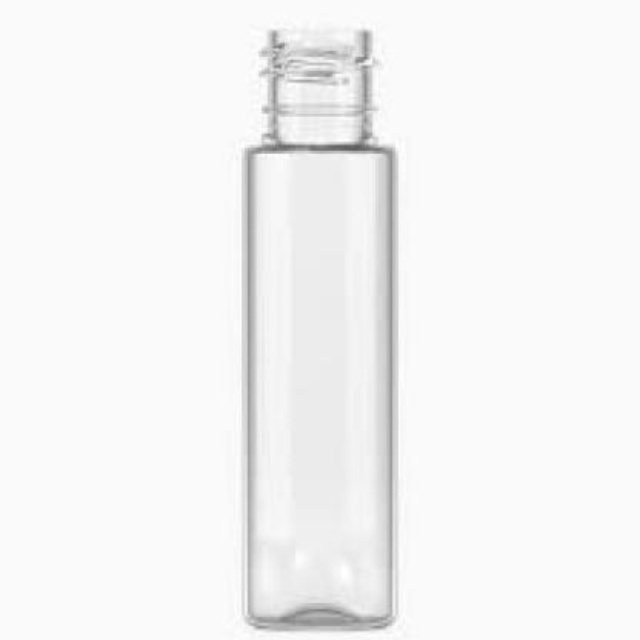trash: (245, 28, 394, 626)
